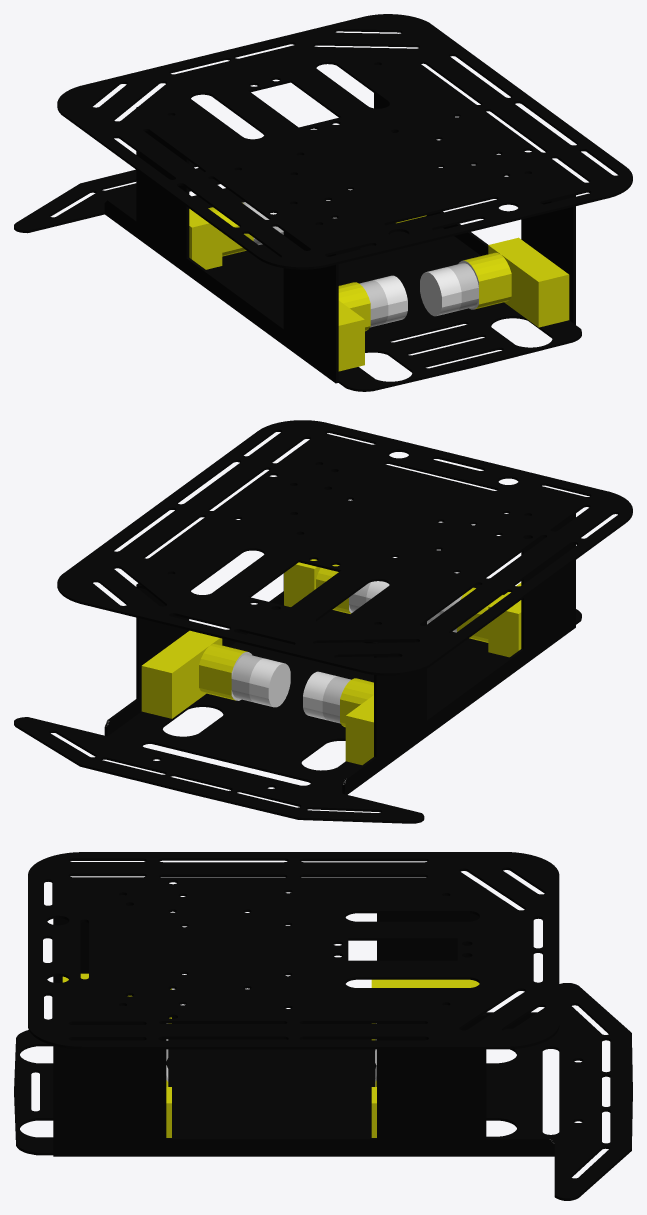
File: chasis1.dae
The picture shows the model from 3 angles, top to bottom: view 1: azimuth 30°, elevation 25°; view 2: azimuth 150°, elevation 25°; view 3: azimuth 270°, elevation 25°; orthographic projection. The views are drawn at different scales.
Visible parts, largest first — view 1: SketchUp_026, SketchUp, group_2, group_2_004, group_2_003, group_2_001, group_1_001, group_0_002, group_1_003, group_1_004, group_2_005, group_1_005; view 2: SketchUp_026, SketchUp, group_3, group_3_004, group_3_003, group_3_001, group_0_001, group_1_002, group_2_002, group_0_003, group_0_004, group_3_005 (+1 smaller); view 3: SketchUp_026, SketchUp, group_0, SketchUp_016, SketchUp_055, SketchUp_027, SketchUp_028, SketchUp_033.
Part boxes in pixels (box(x1,y1,x2,y2)): SketchUp_026: box(57, 14, 632, 269); SketchUp: box(14, 64, 581, 391); group_2: box(488, 237, 568, 327); group_2_004: box(463, 252, 511, 309); group_2_003: box(420, 267, 461, 316); group_2_001: box(538, 274, 569, 327); group_1_001: box(338, 319, 364, 371); group_0_002: box(192, 223, 222, 269); group_1_003: box(373, 275, 407, 324); group_1_004: box(338, 282, 370, 331); group_2_005: box(446, 263, 478, 310); group_1_005: box(359, 280, 388, 327); SketchUp_026: box(57, 420, 632, 675); SketchUp: box(14, 464, 581, 823); group_3: box(142, 630, 222, 718); group_3_004: box(199, 644, 247, 700); group_3_003: box(249, 658, 290, 707); group_3_001: box(141, 666, 171, 718); group_0_001: box(345, 715, 373, 765); group_1_002: box(488, 606, 518, 657); group_2_002: box(284, 564, 314, 606); group_0_003: box(303, 671, 338, 720); group_0_004: box(340, 678, 373, 727); group_3_005: box(231, 654, 264, 702); SketchUp_026: box(28, 852, 559, 1049); SketchUp: box(14, 895, 632, 1200); group_0: box(371, 979, 479, 1040); SketchUp_016: box(158, 1036, 288, 1039); SketchUp_055: box(299, 1036, 428, 1039); SketchUp_027: box(299, 858, 428, 861); SketchUp_028: box(299, 874, 427, 877); SketchUp_033: box(159, 874, 287, 877).
Size of the model in its own units: 1.87 by 2.26 by 0.58.
